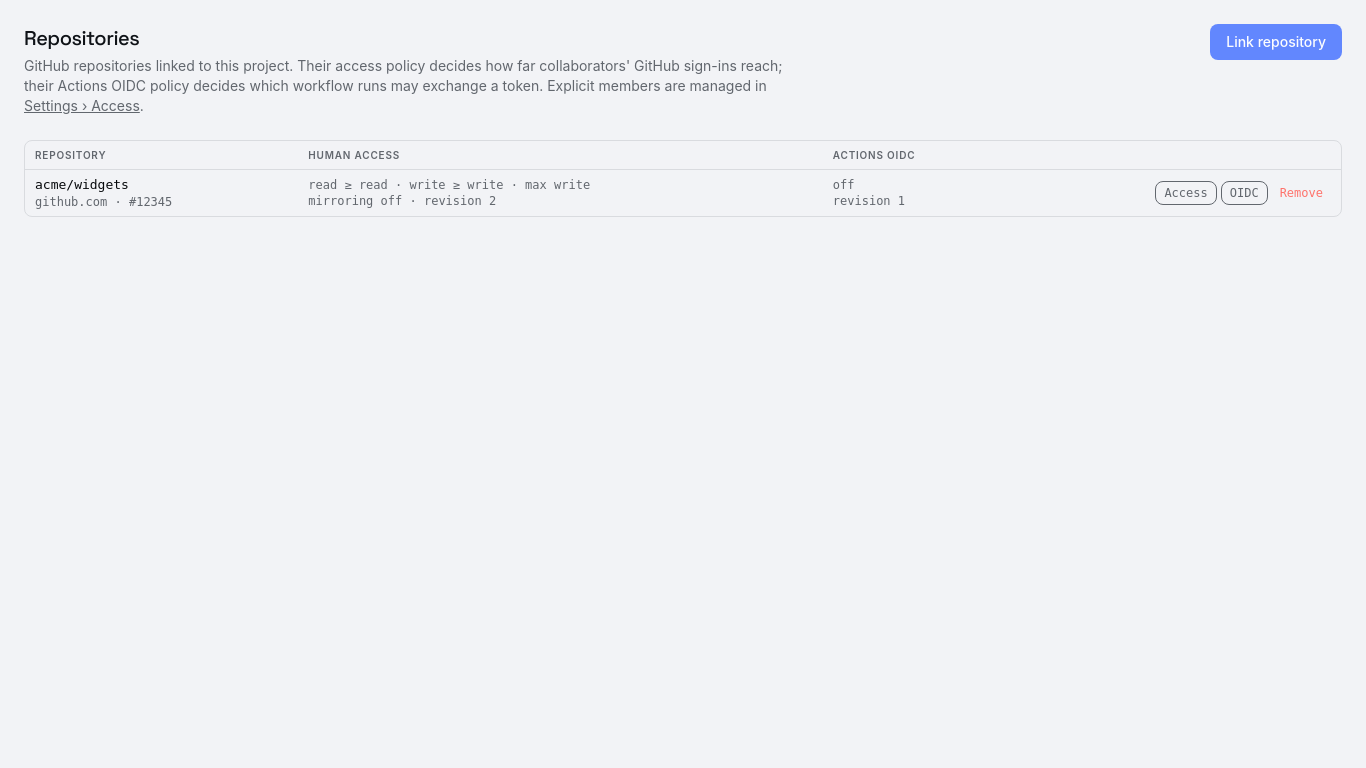
Scenario: linking reports a repository GitHub cannot find
Click the button "Link repository".
click(1276, 42)  # box [1210,24,1342,60]
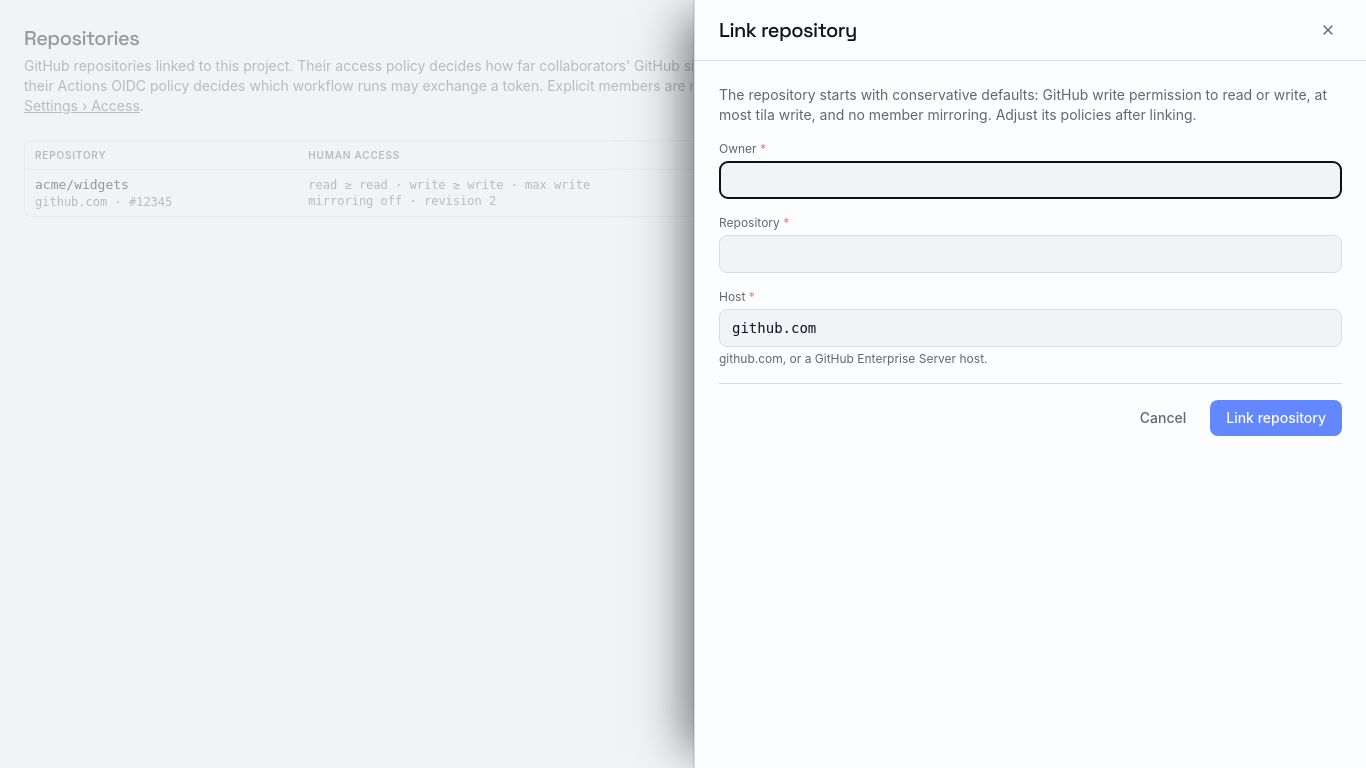
Type "acme" into the field labelled "Owner *".
click(1030, 180); type("acme")  # box [719,161,1342,199]
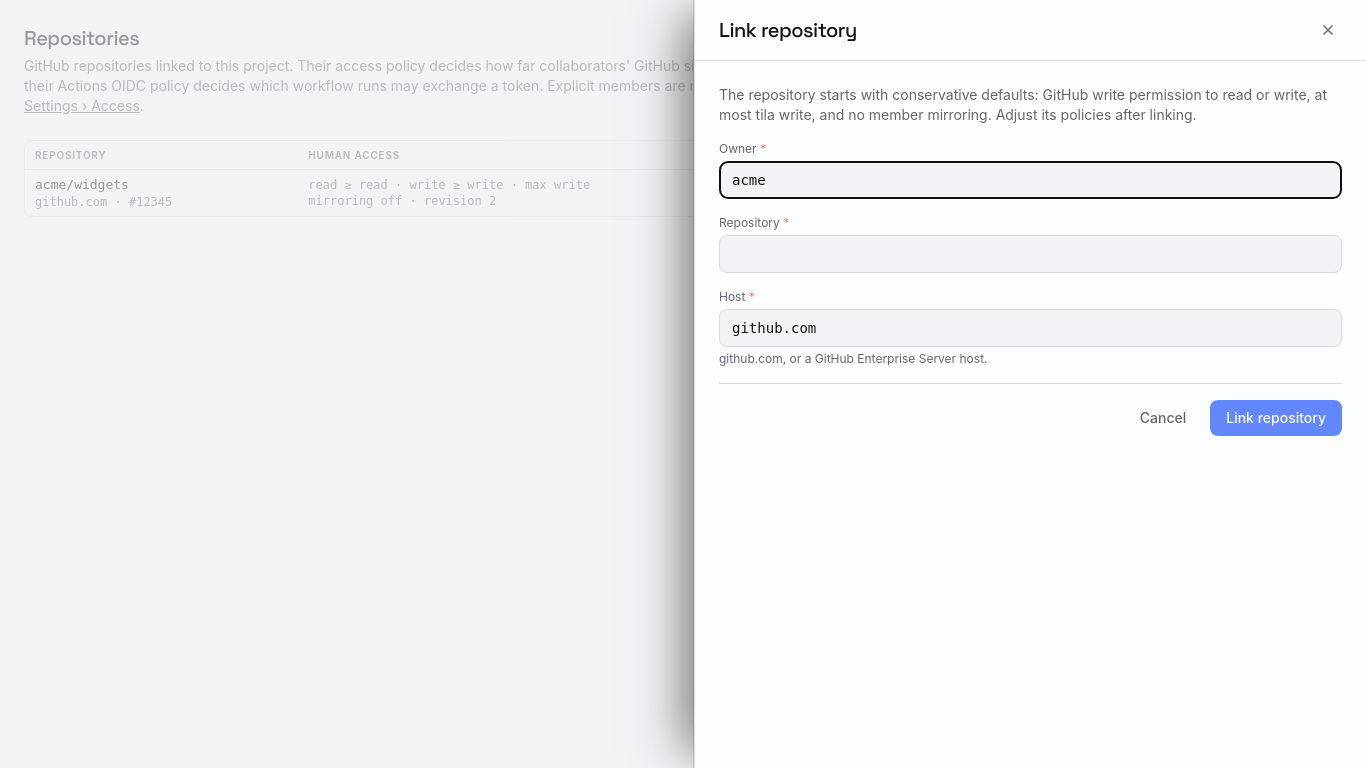
Type "gadgets" into the field labelled "Repository *".
click(1030, 254); type("gadgets")  # box [719,235,1342,273]
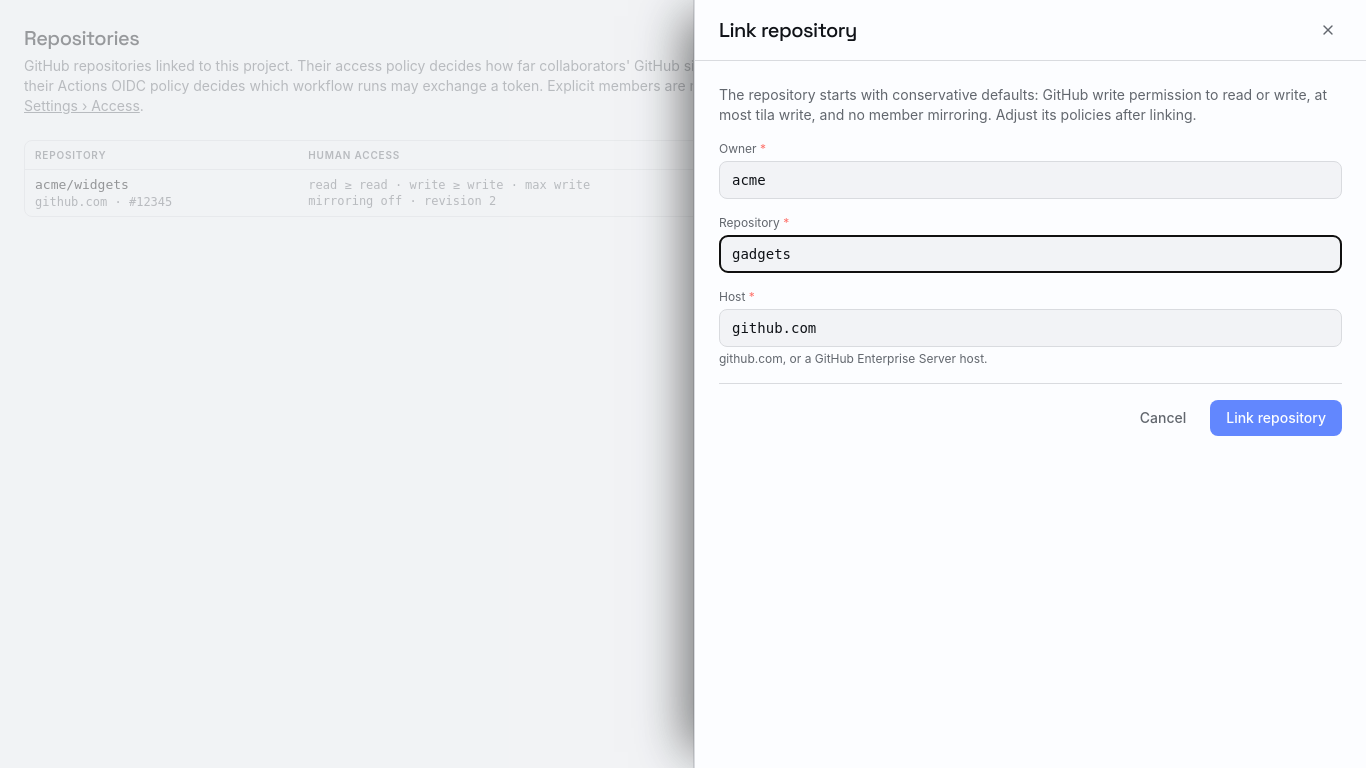
Click the button "Link repository".
click(1276, 418)  # box [1210,400,1342,436]
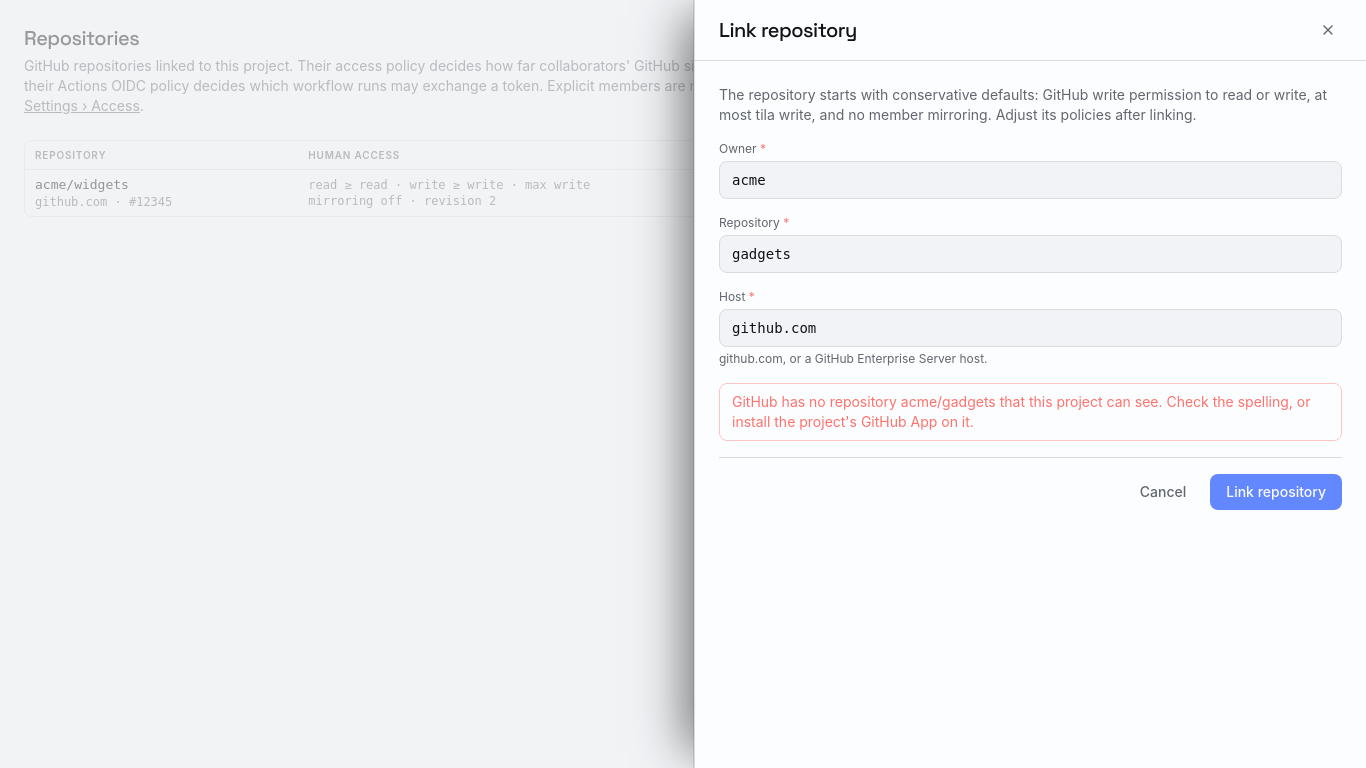
Check: the text "GitHub has no repository acme/gadgets" is shown, box [719,383,1342,441]
Click the button "Link repository".
click(1276, 492)  # box [1210,474,1342,510]
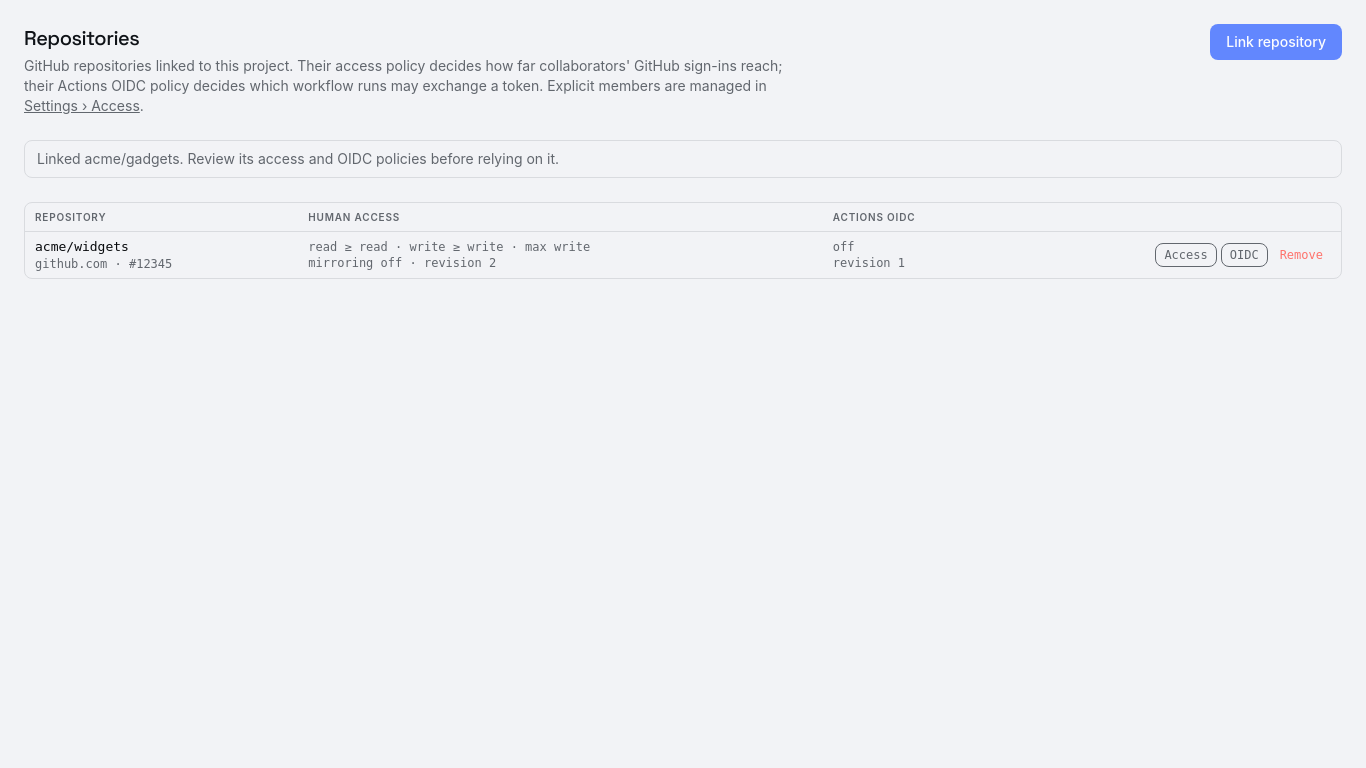
Check: the text "Linked acme/gadgets. Review its access and OIDC policies before relying on it." is shown, box [24,140,1342,178]
